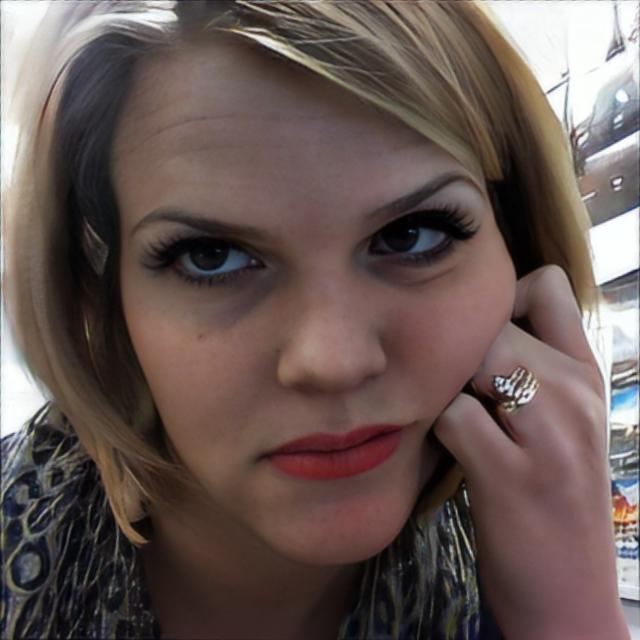anger: (114, 58, 516, 564)
